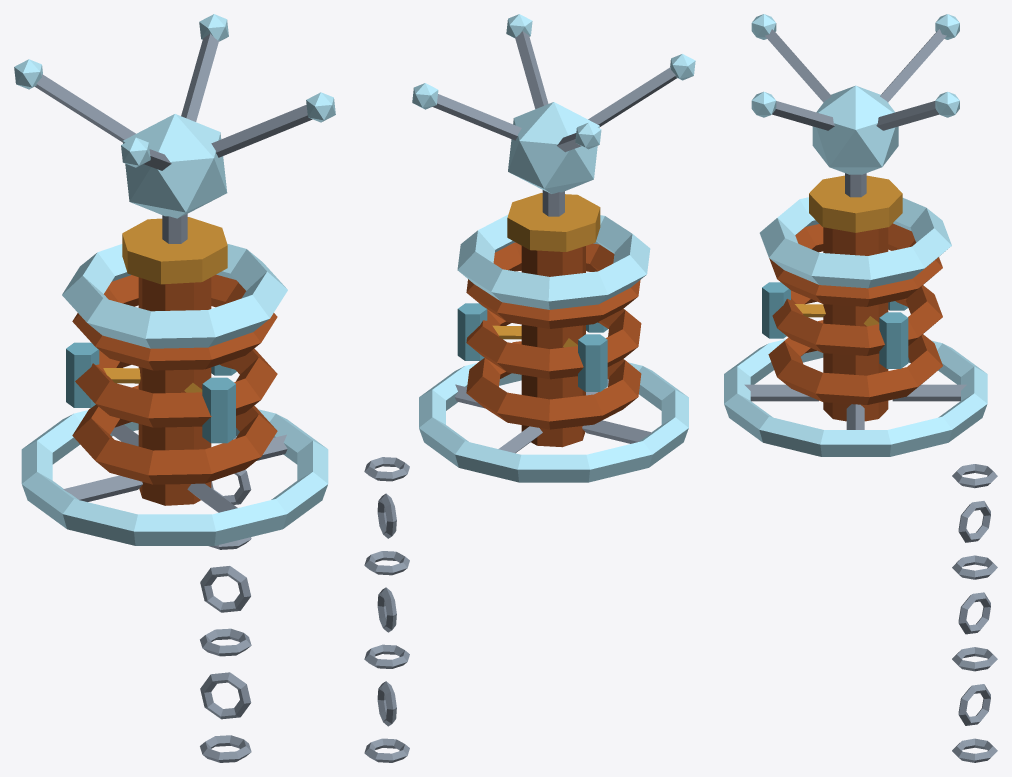
The model's file is TeslaA2.obj.
3 views of the same model, side by side, from view 1: azimuth 30°, elevation 25°; view 2: azimuth 150°, elevation 25°; view 3: azimuth 270°, elevation 25° (orthographic). The views are drawn at different scales.
Visible parts, largest first — view 1: TeslaA2; view 2: TeslaA2; view 3: TeslaA2.
Boxes of the visible parts, x1,y1,x2,y2 form: TeslaA2: (14,14,335,762); TeslaA2: (364,14,695,762); TeslaA2: (724,14,997,762).
Size of the model in its own units: 0.7592 by 1.99 by 0.7592.
